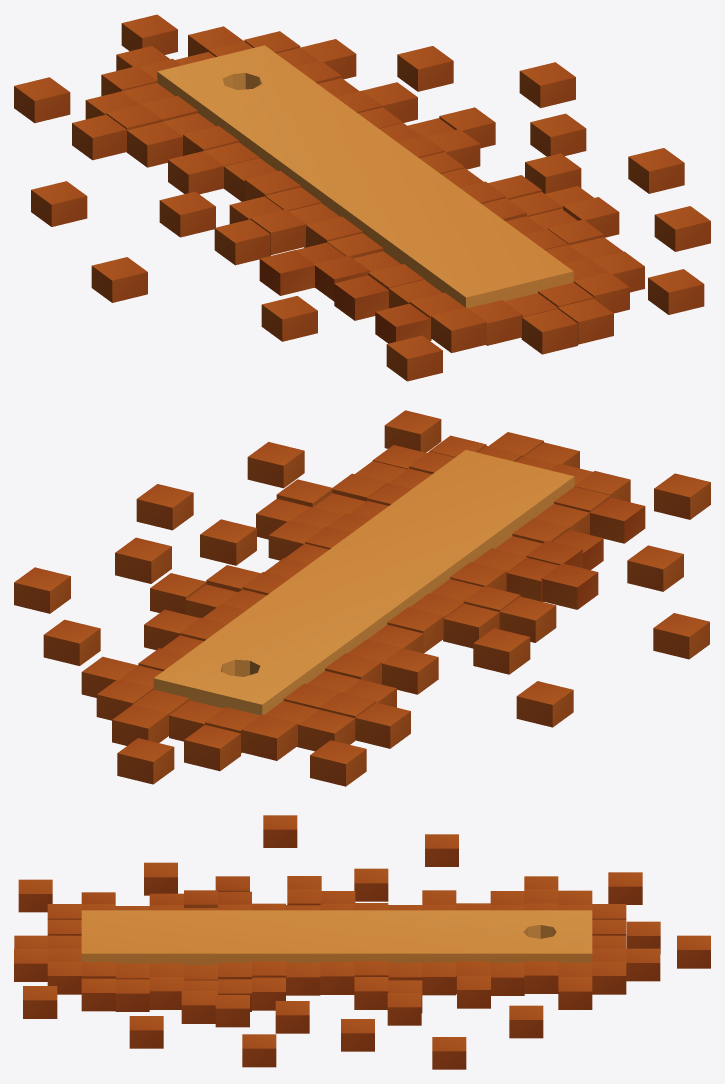
File: Level_01_02.fbx
The picture shows the model from 3 angles, top to bottom: view 1: azimuth 30°, elevation 25°; view 2: azimuth 150°, elevation 25°; view 3: azimuth 270°, elevation 25°; orthographic projection. The views are drawn at different scales.
Parts seen in each view (by area): view 1: base, pCube173, pCube169, pCube166, pCube163, pCube174, pCube172, pCube168, pCube167, pCube165, pCube164, pCube171 (+57 smaller); view 2: base, pCube173, pCube172, pCube170, pCube168, pCube164, pCube163, pCube150, pCube167, pCube93, pCube171, pCube169 (+59 smaller); view 3: base, pCube172, pCube89, pCube69, pCube163, pCube140, pCube126, pCube168, pCube136, pCube170, pCube138, pCube174 (+57 smaller).
Boxes of the visible parts, <box> form: base: <box>157,45,573,307</box>; pCube173: <box>31,181,87,226</box>; pCube169: <box>14,77,70,123</box>; pCube166: <box>386,335,442,381</box>; pCube163: <box>397,46,453,91</box>; pCube174: <box>91,257,147,302</box>; pCube172: <box>628,148,684,193</box>; pCube168: <box>159,191,215,237</box>; pCube167: <box>261,296,317,341</box>; pCube165: <box>648,269,704,314</box>; pCube164: <box>654,206,710,251</box>; pCube171: <box>519,62,575,108</box>; base: <box>153,450,574,715</box>; pCube173: <box>516,681,573,727</box>; pCube172: <box>136,484,193,530</box>; pCube170: <box>117,738,174,784</box>; pCube168: <box>473,628,530,674</box>; pCube164: <box>247,442,304,488</box>; pCube163: <box>43,619,100,665</box>; pCube150: <box>541,563,598,609</box>; pCube167: <box>627,545,683,591</box>; pCube93: <box>241,714,297,760</box>; pCube171: <box>14,567,70,613</box>; pCube169: <box>310,740,366,786</box>; base: <box>81,910,592,964</box>; pCube172: <box>242,1034,276,1067</box>; pCube89: <box>592,961,626,994</box>; pCube69: <box>422,962,456,995</box>; pCube163: <box>509,1005,543,1038</box>; pCube140: <box>626,948,660,981</box>; pCube126: <box>81,978,115,1011</box>; pCube168: <box>354,868,388,901</box>; pCube136: <box>215,994,249,1027</box>; pCube170: <box>677,935,710,968</box>; pCube138: <box>457,975,490,1008</box>; pCube174: <box>263,815,297,847</box>.
Size of what is drawn, in the model's own units: 15.86 by 0.9973 by 20.46.
Materials: 2 (2 with a texture image).
